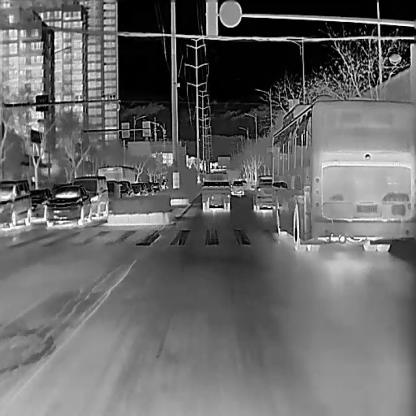bus: (264, 94, 416, 251), (96, 164, 133, 181)
car: (44, 184, 90, 228), (72, 176, 108, 219), (0, 180, 31, 228), (250, 174, 272, 213), (29, 187, 52, 221), (104, 179, 119, 200), (118, 180, 134, 196), (231, 180, 243, 196), (144, 181, 154, 195), (137, 181, 146, 196), (153, 180, 161, 194), (131, 181, 139, 194)
truck: (201, 170, 229, 209)
